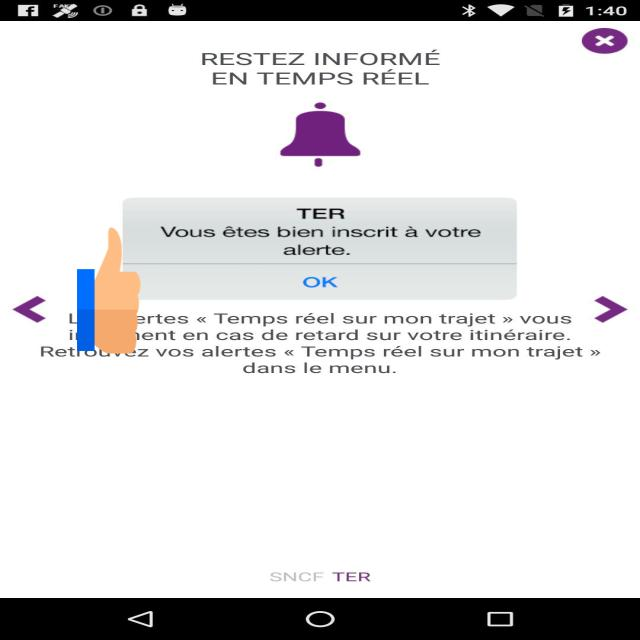privacy zuckering: (77, 224, 140, 357)
